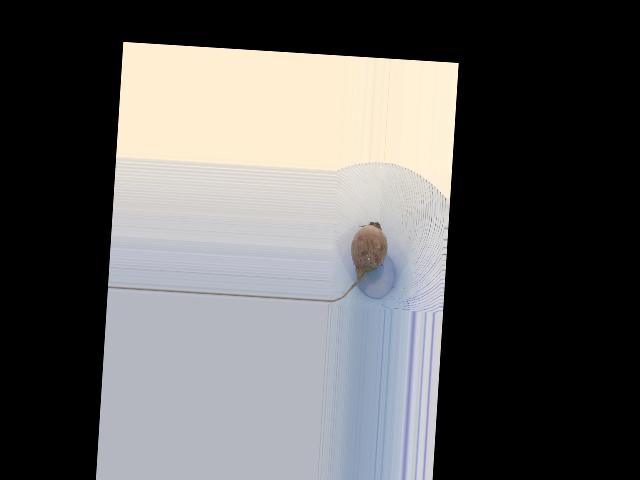beet: (327, 218, 388, 304)
